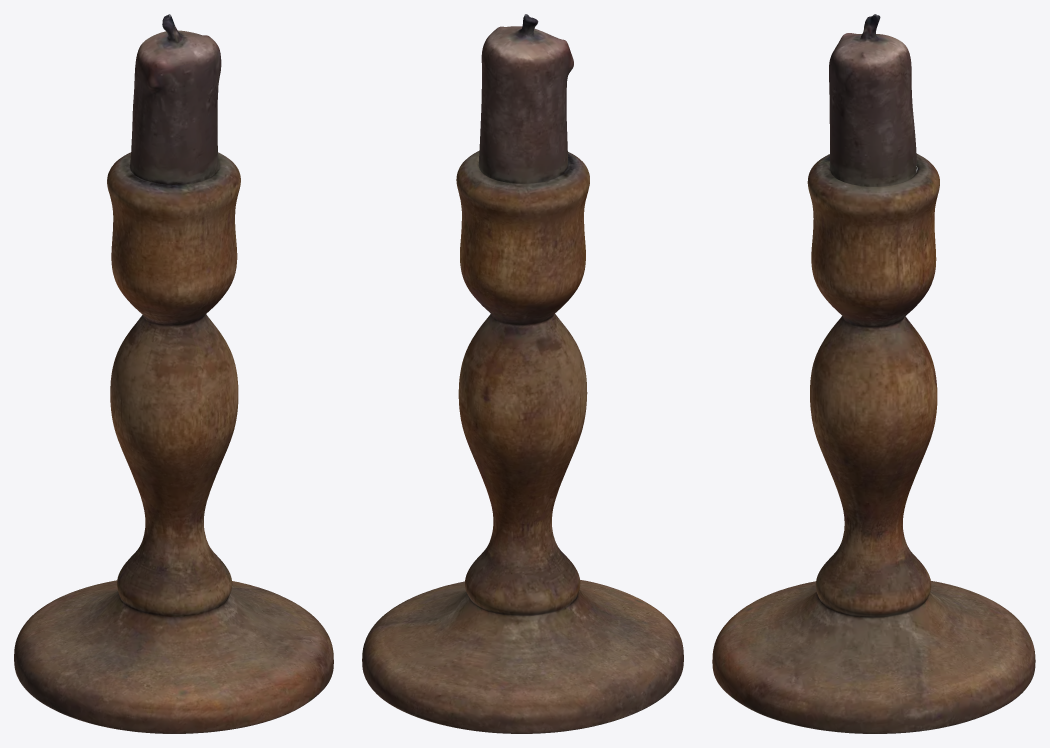
File: wooden_candlestick.glb
The picture shows the model from 3 angles, left to right: view 1: azimuth 30°, elevation 25°; view 2: azimuth 150°, elevation 25°; view 3: azimuth 270°, elevation 25°; orthographic projection.
Parts seen in each view (by area): view 1: wooden_candlestick; view 2: wooden_candlestick; view 3: wooden_candlestick.
Part boxes in pixels (box(x1,y1,x2,y2)): wooden_candlestick: box(14, 14, 333, 733); wooden_candlestick: box(362, 14, 683, 733); wooden_candlestick: box(712, 14, 1035, 733).
Bounding box in the file's own units: 0.0972 × 0.2197 × 0.0987.
Materials: 1 (1 with a texture image).
